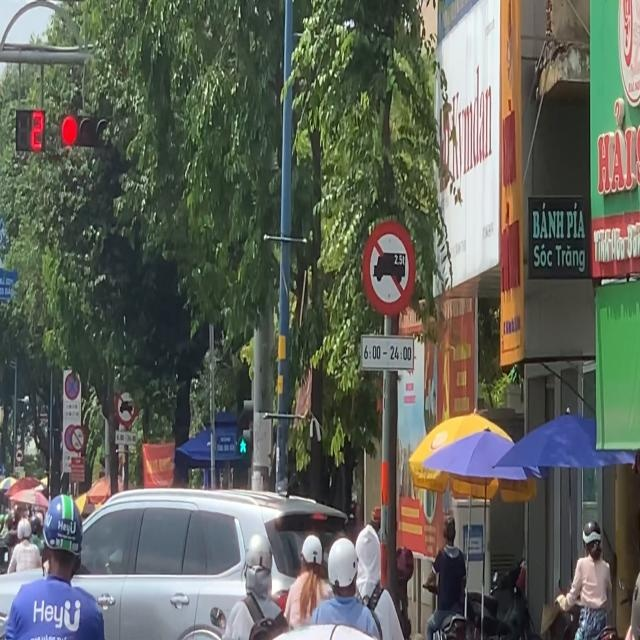bien_cam: (362, 219, 416, 316), (115, 387, 137, 427), (65, 372, 80, 400)
